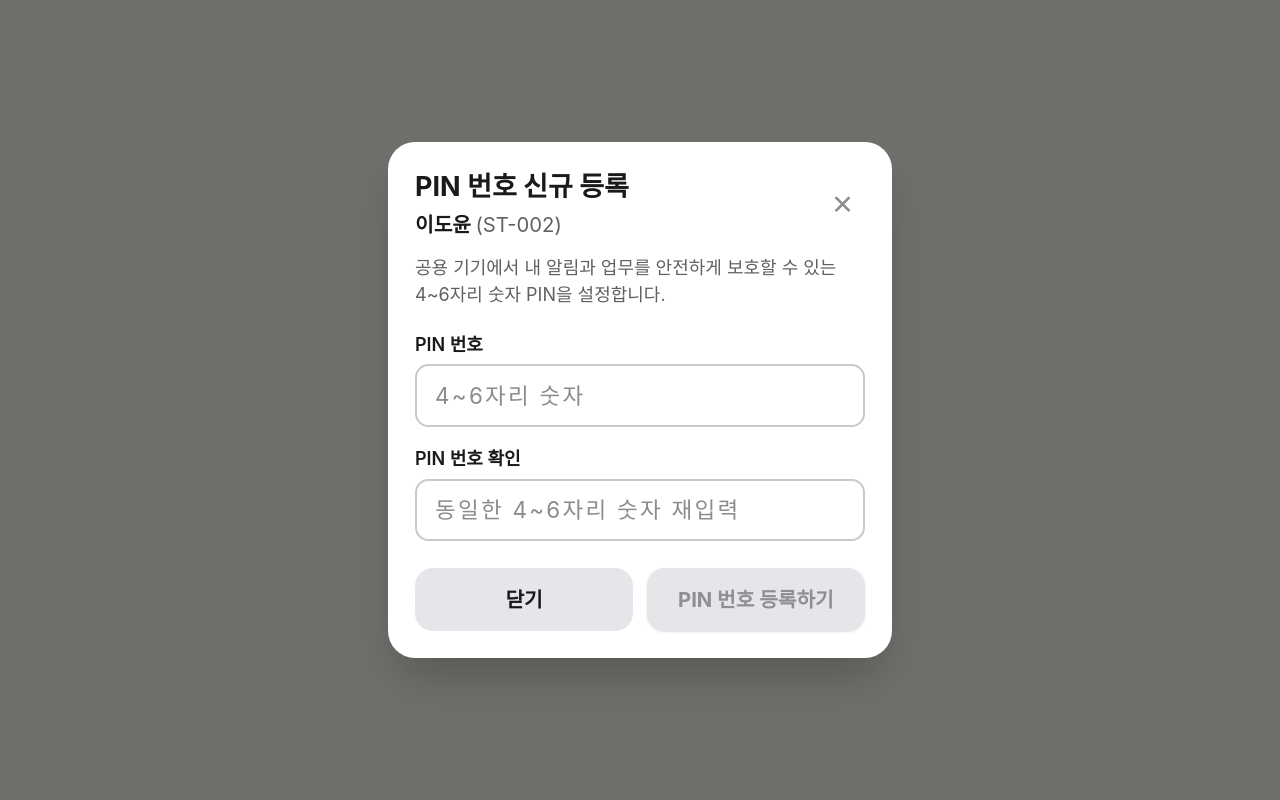
Scenario: PinSettingsModal › 새 PIN과 확인이 일치하지 않으면 오류를 표시한다
Type "1234" into the password field labelled "PIN 번호" at (640, 396), box [415,364,865,427]
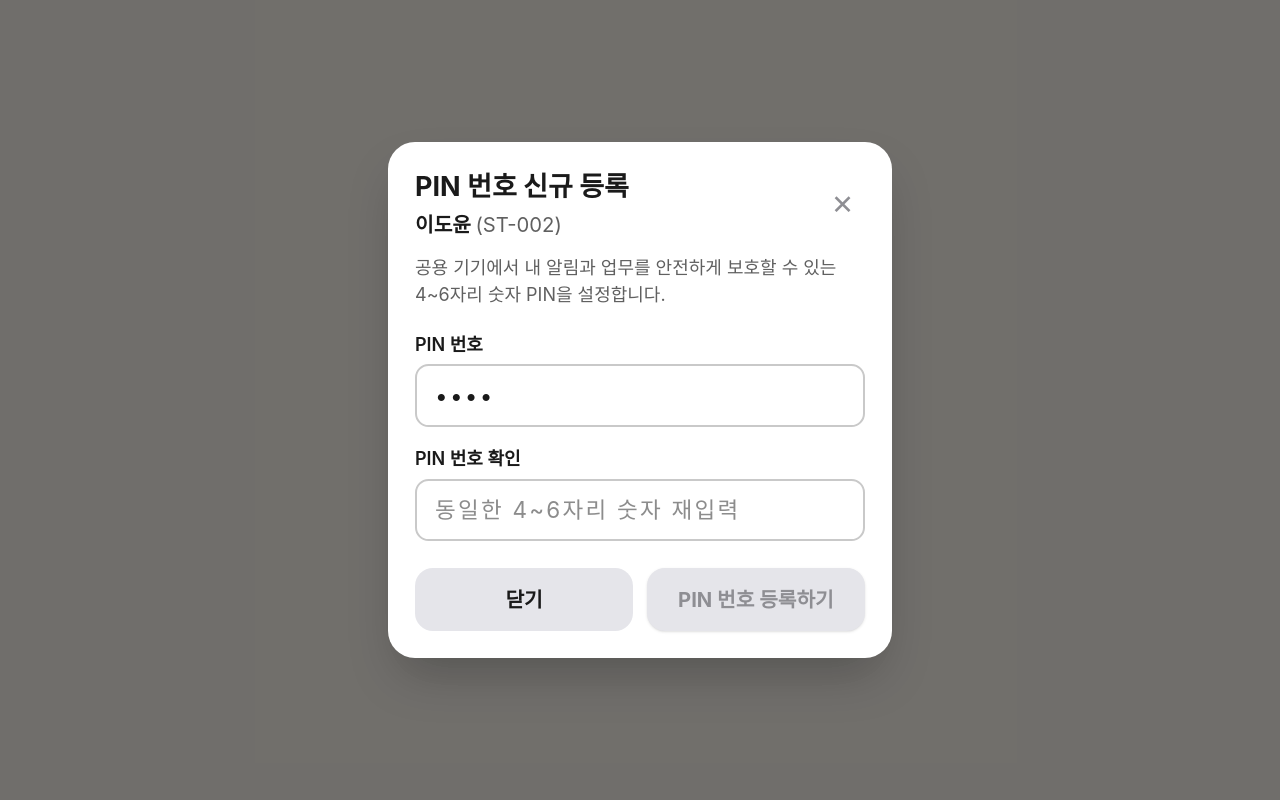
Type "9999" into the password field labelled "PIN 번호 확인" at (640, 510), box [415,479,865,541]
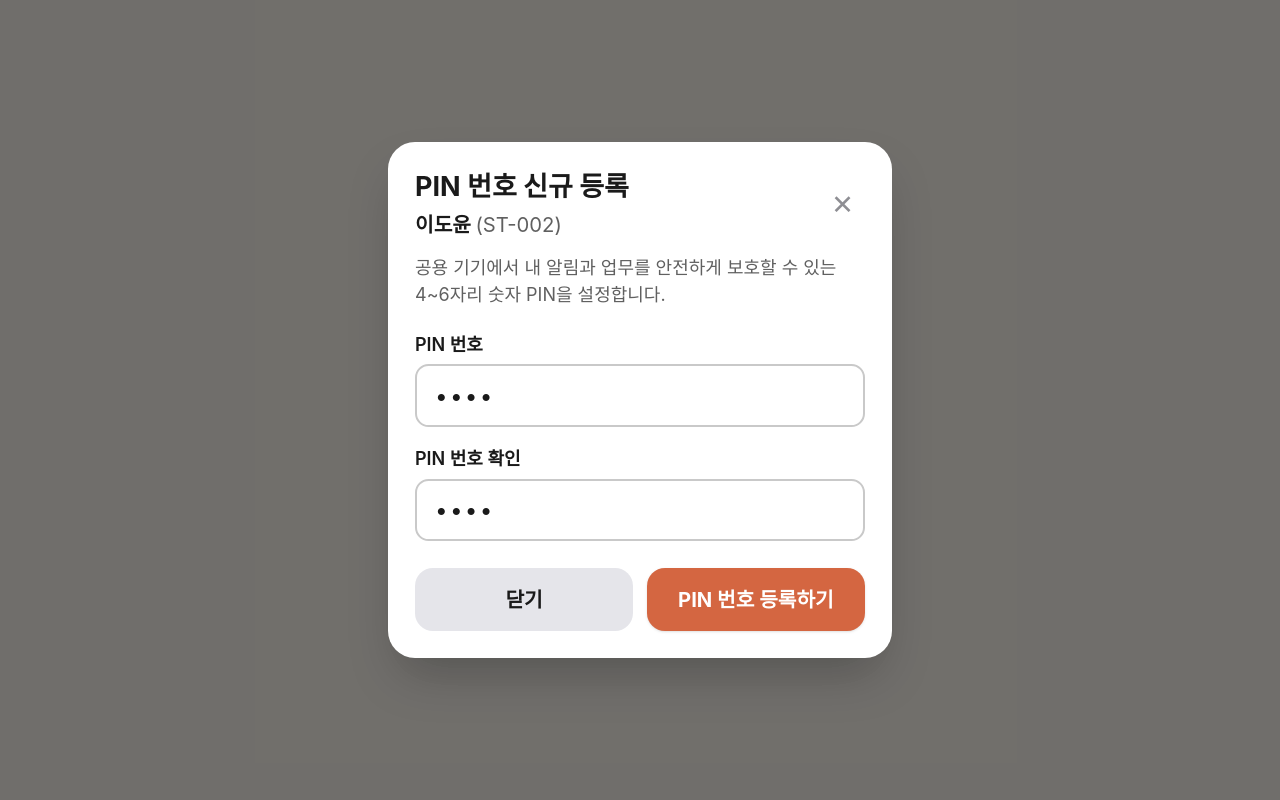
Click the button "PIN 번호 등록하기" at (756, 600), box [647,568,865,631]
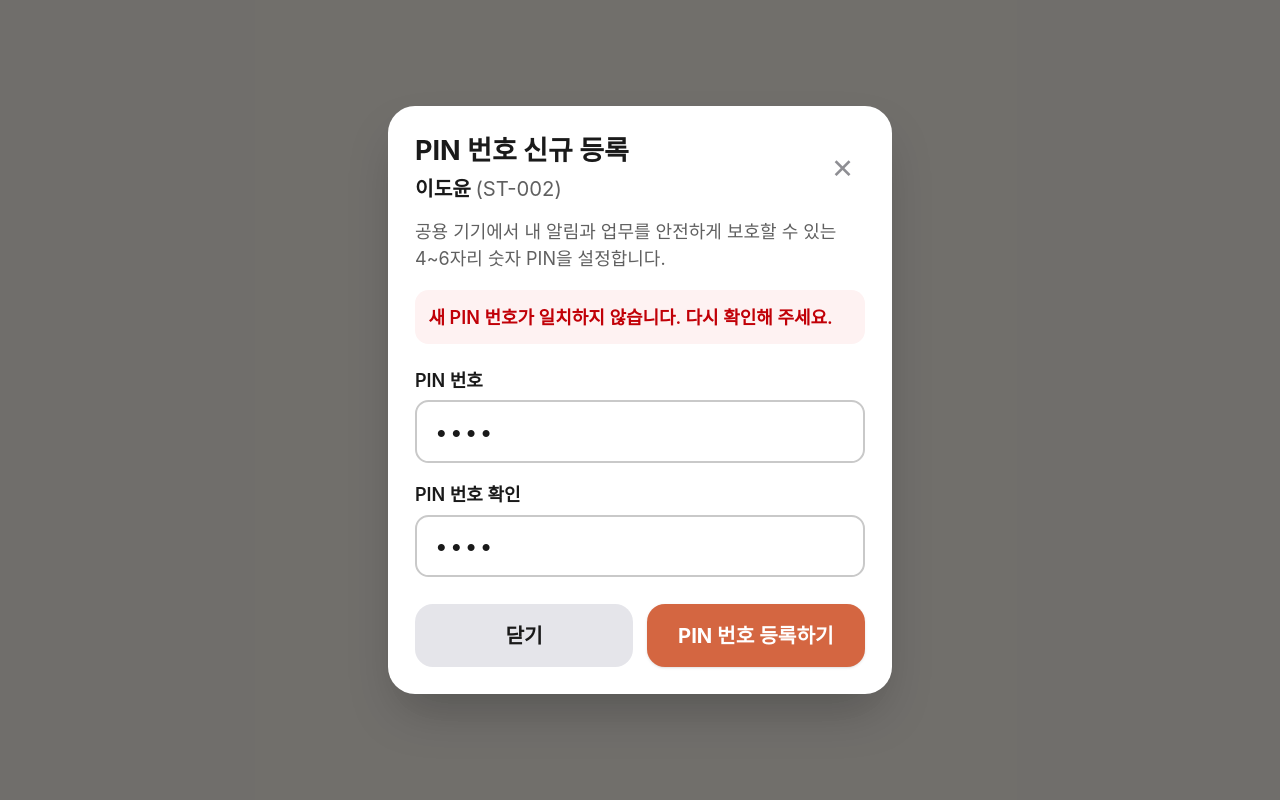
Check: the message shows "새 PIN 번호가 일치하지 않습니다", box [428,307,833,328]
